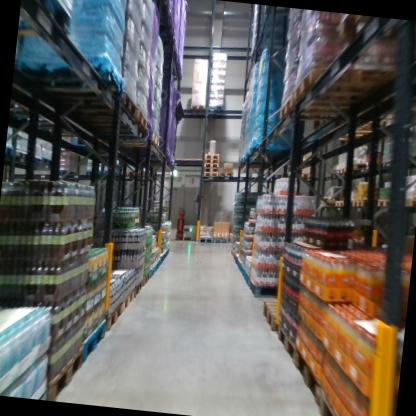pallet: (17, 48, 132, 102), (279, 84, 390, 134), (30, 79, 143, 124), (291, 68, 393, 111), (61, 99, 157, 131), (336, 13, 416, 50), (18, 0, 85, 40), (288, 341, 328, 405), (91, 124, 166, 158), (45, 341, 87, 400), (311, 380, 356, 416), (247, 275, 298, 306), (259, 295, 290, 339), (273, 318, 300, 367), (81, 316, 105, 368), (335, 160, 370, 183), (236, 159, 277, 173), (105, 300, 123, 331), (186, 98, 209, 119), (120, 288, 135, 314), (129, 276, 143, 303), (13, 146, 29, 164), (26, 149, 42, 167), (242, 269, 255, 290), (208, 103, 224, 120), (375, 194, 391, 210), (217, 167, 234, 182), (401, 194, 416, 211), (40, 151, 56, 166), (361, 195, 376, 210), (5, 142, 16, 162), (326, 165, 338, 182), (351, 194, 362, 211), (195, 236, 213, 246), (141, 270, 151, 287), (147, 263, 157, 280), (213, 235, 230, 245), (299, 171, 317, 179), (334, 198, 346, 210), (204, 153, 221, 161), (203, 167, 218, 176), (152, 258, 161, 273), (321, 193, 333, 204), (202, 163, 219, 170), (203, 158, 220, 165), (240, 262, 247, 279), (202, 173, 218, 180), (327, 198, 336, 210)
